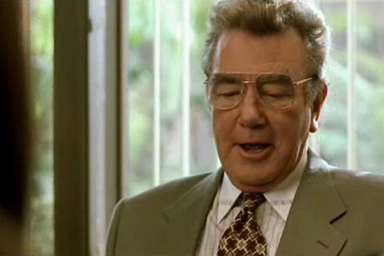cu: (1, 1, 384, 256)
face: (205, 47, 308, 187)
person: (103, 1, 384, 256)
